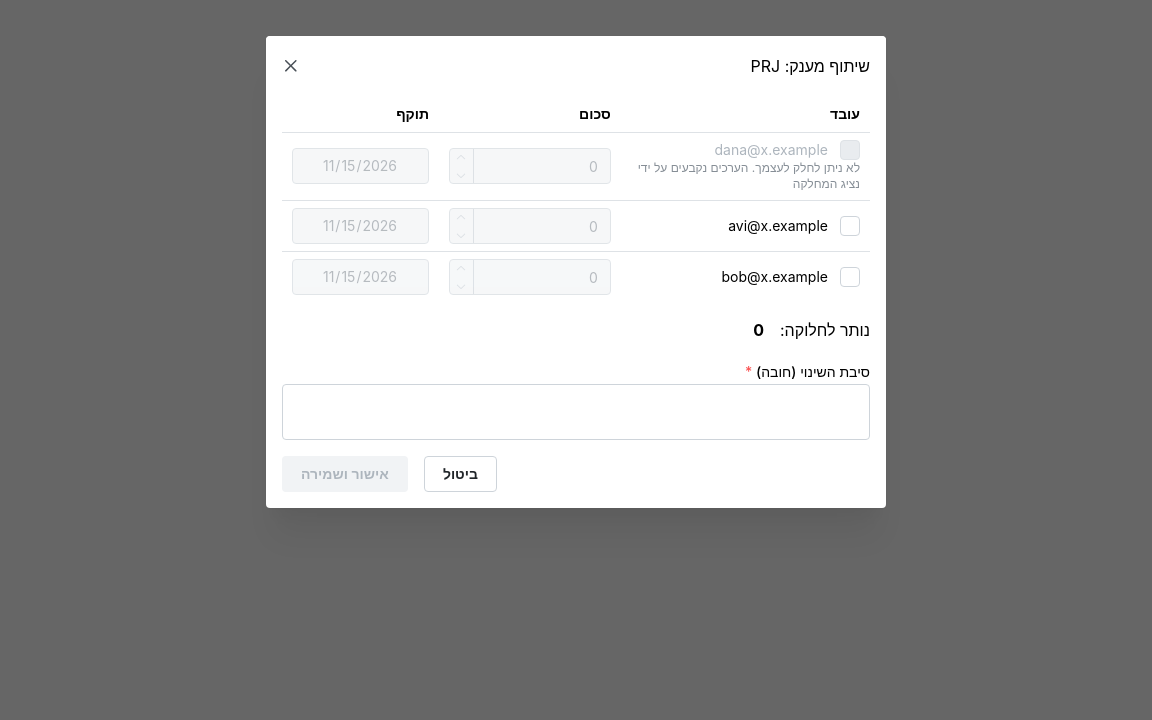
Test case: ShareDialog › sums fractional amounts exactly
Click the checkbox labelled "avi@x.example" at (850, 226), box [840,216,860,236]
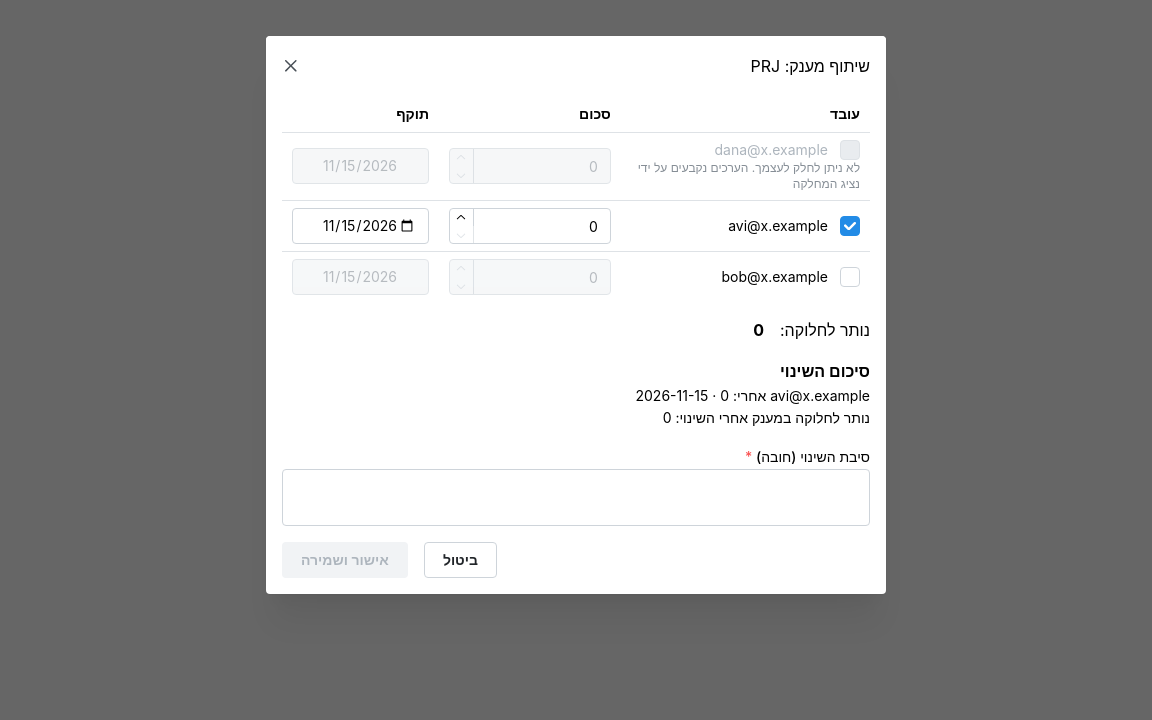
Click the checkbox labelled "bob@x.example" at (850, 277), box [840,267,860,287]
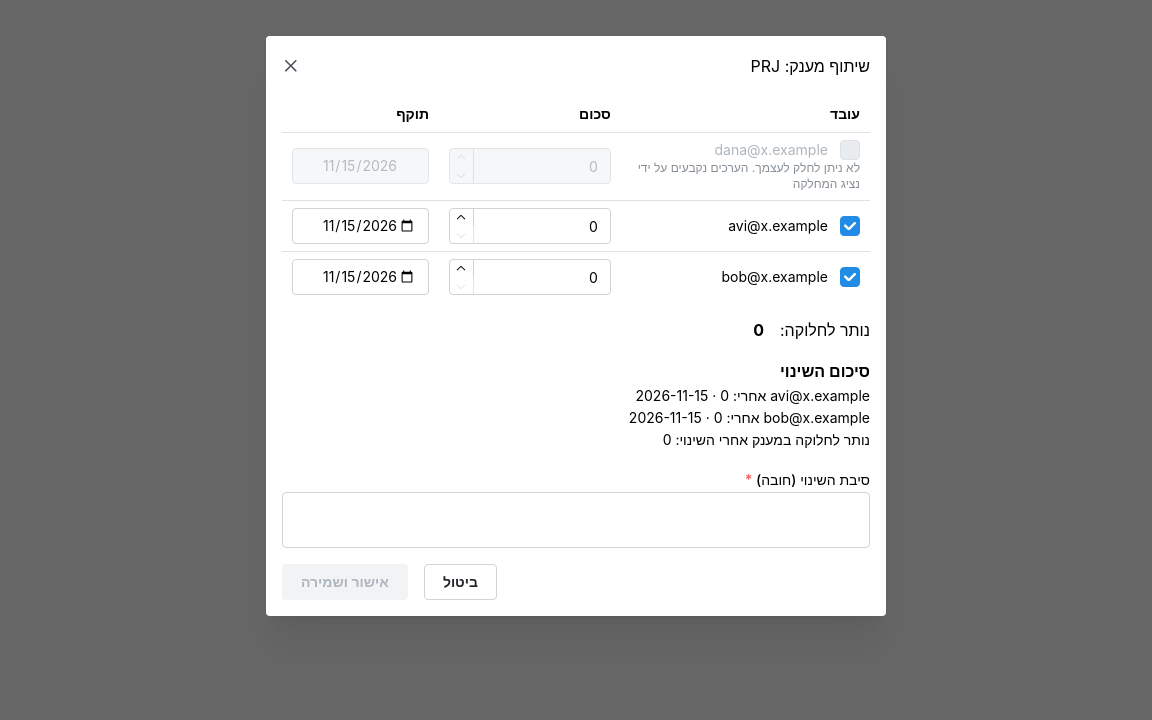
Replace the text in the field with test id "share-amount-avi@x.example" with "0.1" at (530, 226), box [449,208,611,244]
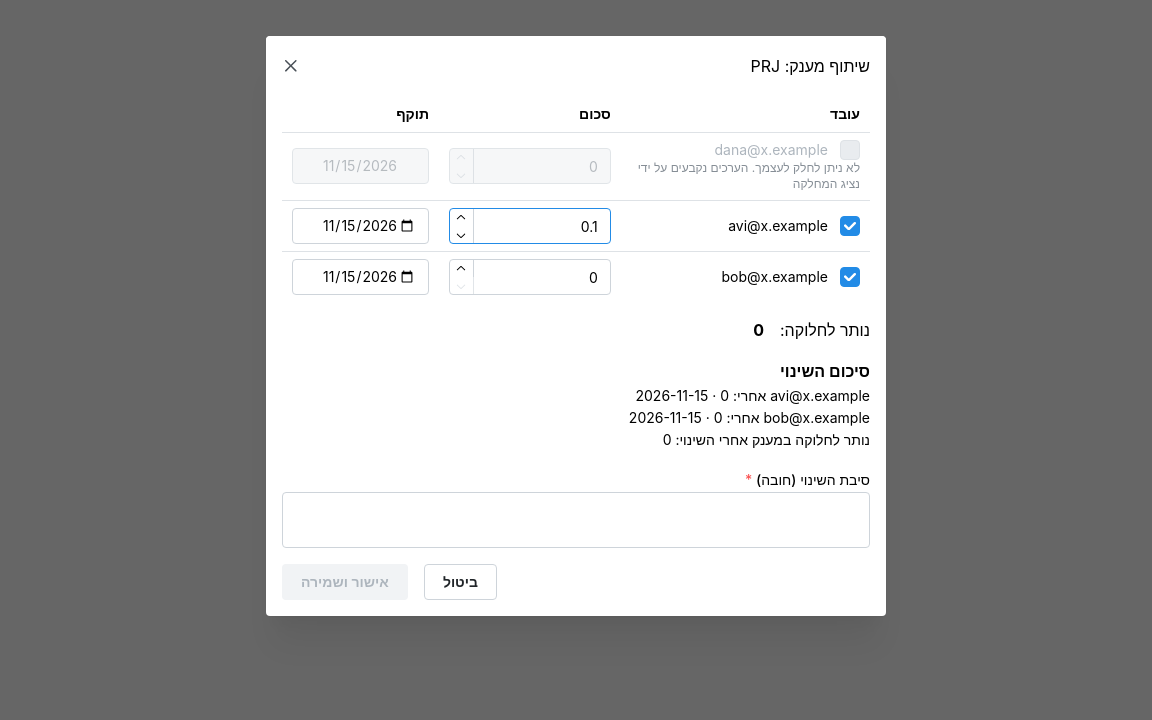
Replace the text in the field with test id "share-amount-bob@x.example" with "0.2" at (530, 277), box [449,259,611,295]
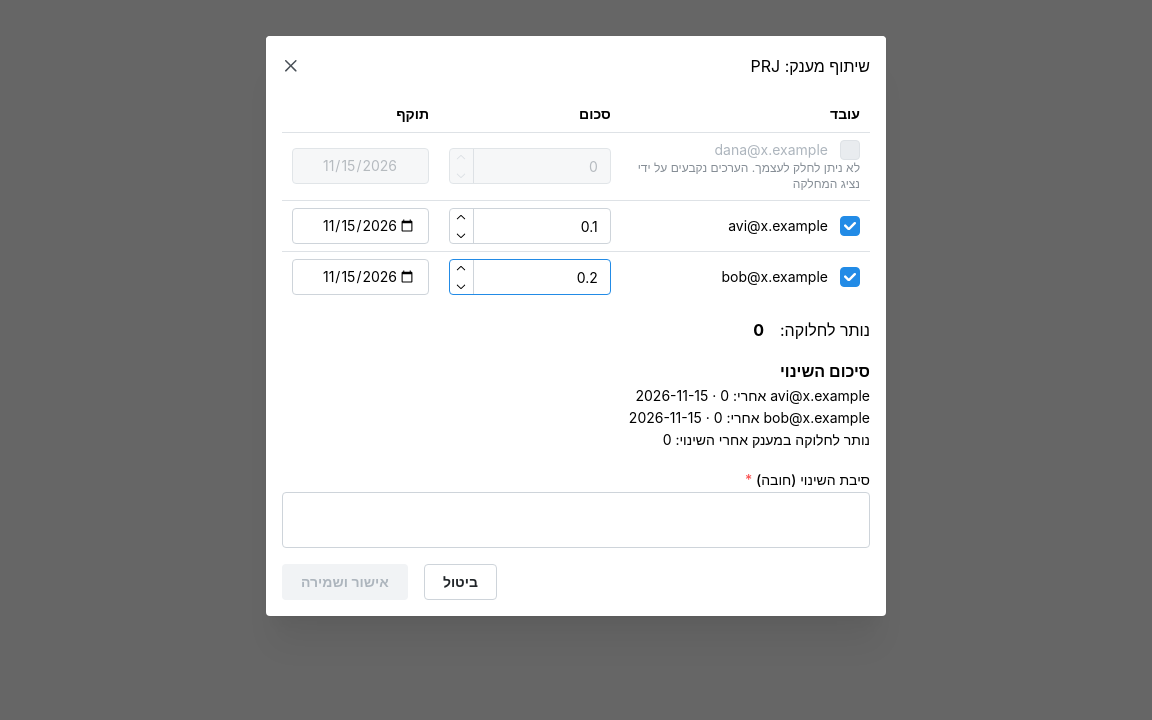
Type "why" into the text box with test id "share-reason" at (576, 520), box [282,492,870,548]
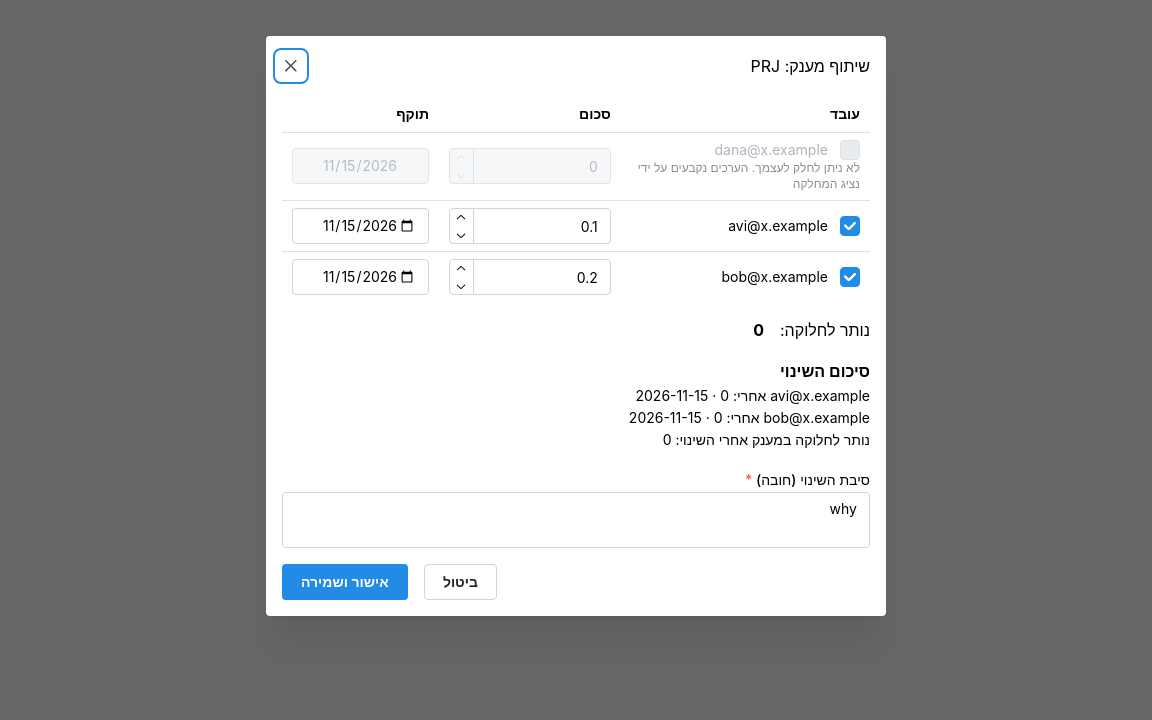
Expected: the button with test id "share-confirm" is enabled, [282,564,408,600]
